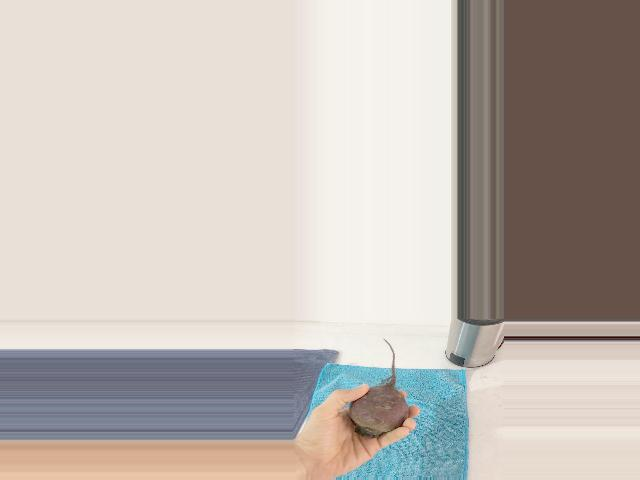beet: (349, 339, 409, 439)
